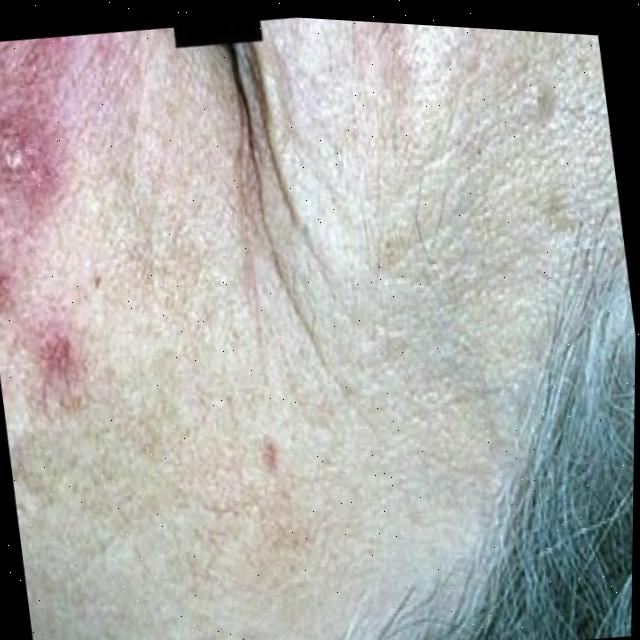Rosacea: (0, 33, 131, 394)
